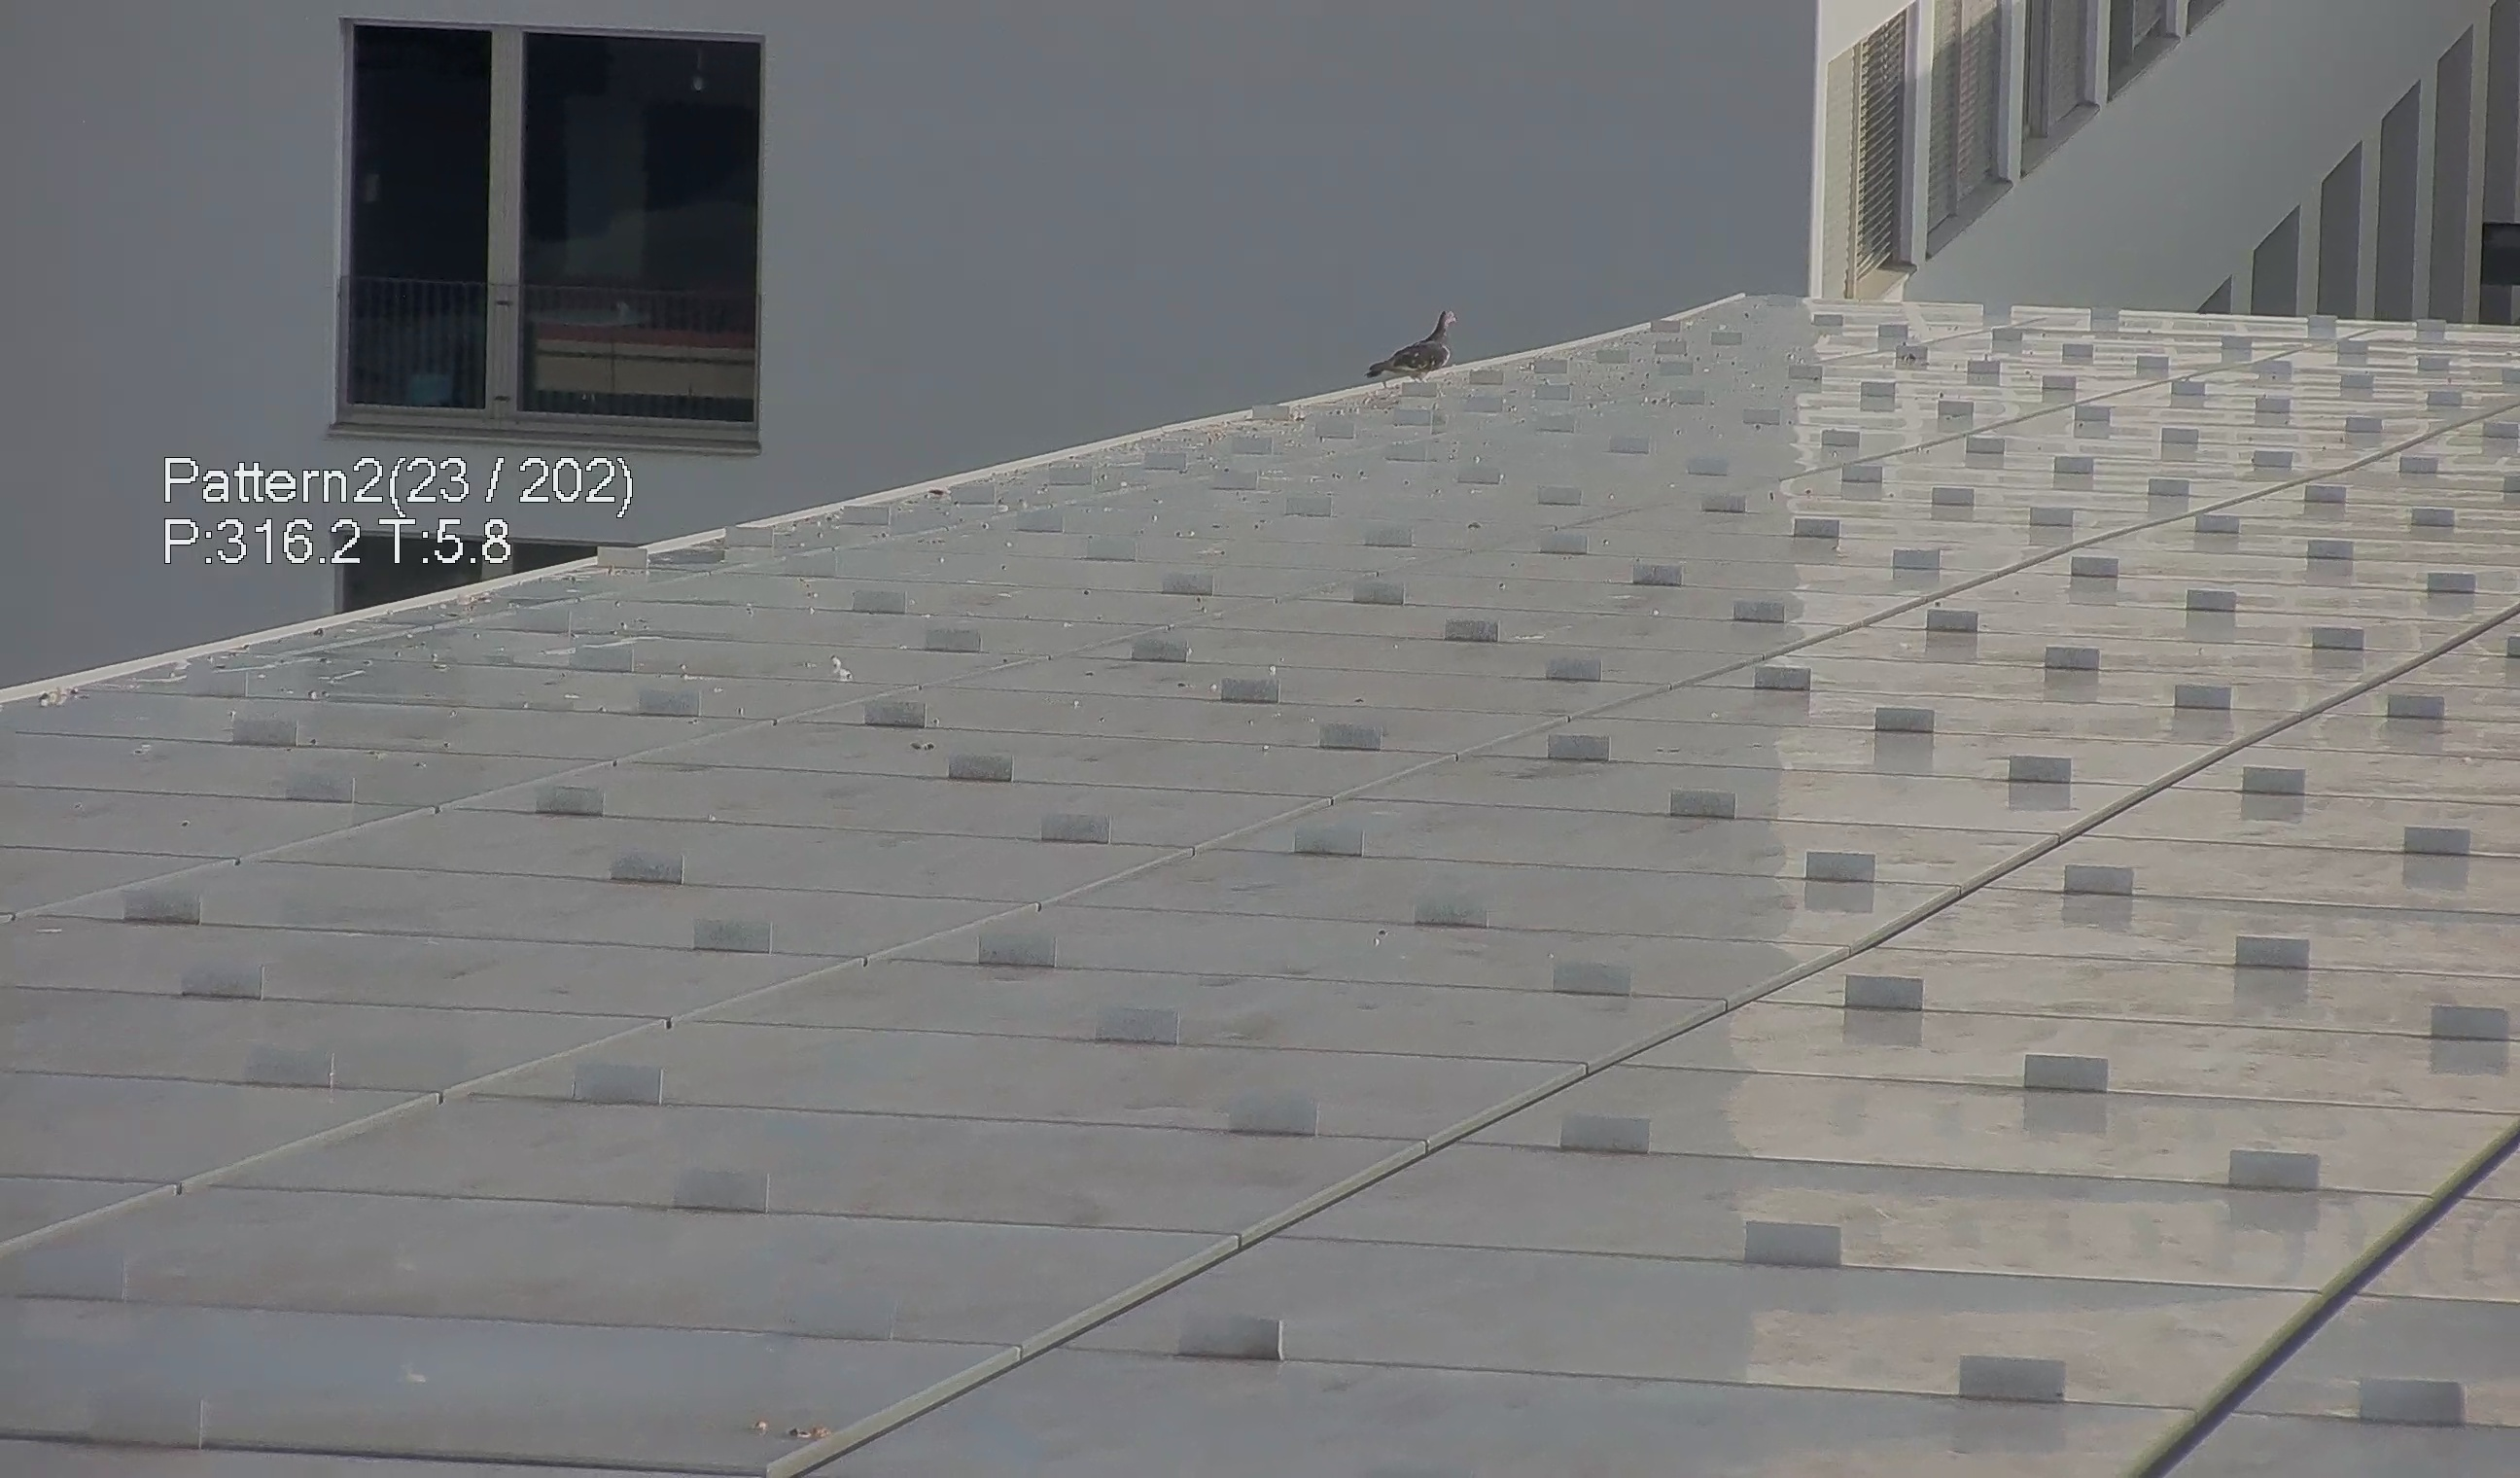Pigeon: (1358, 294, 1467, 389)
